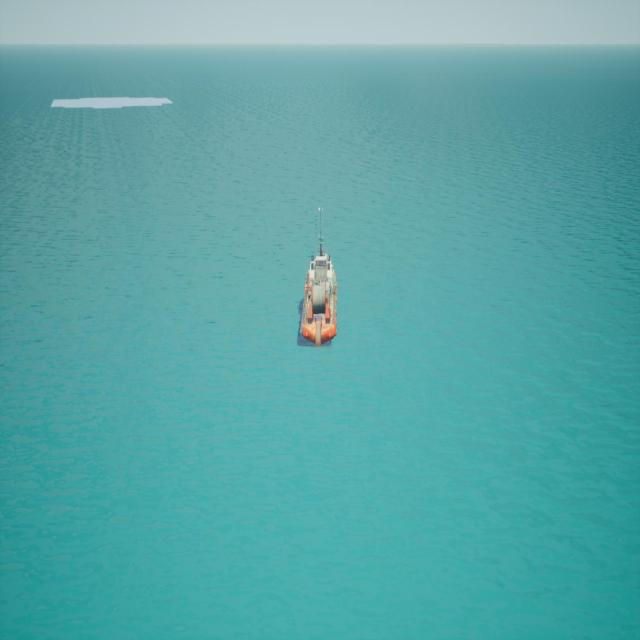tug boat: (300, 214, 339, 350)
